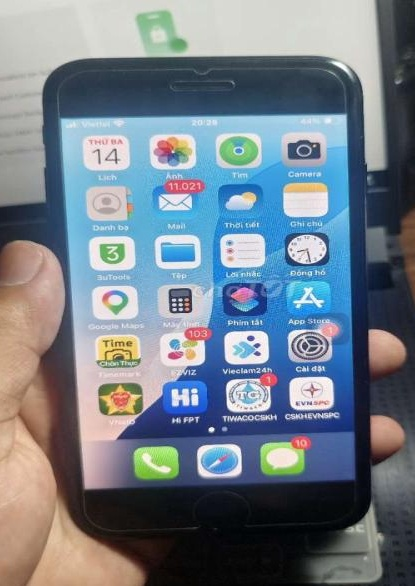scratch: (35, 52, 374, 534)
